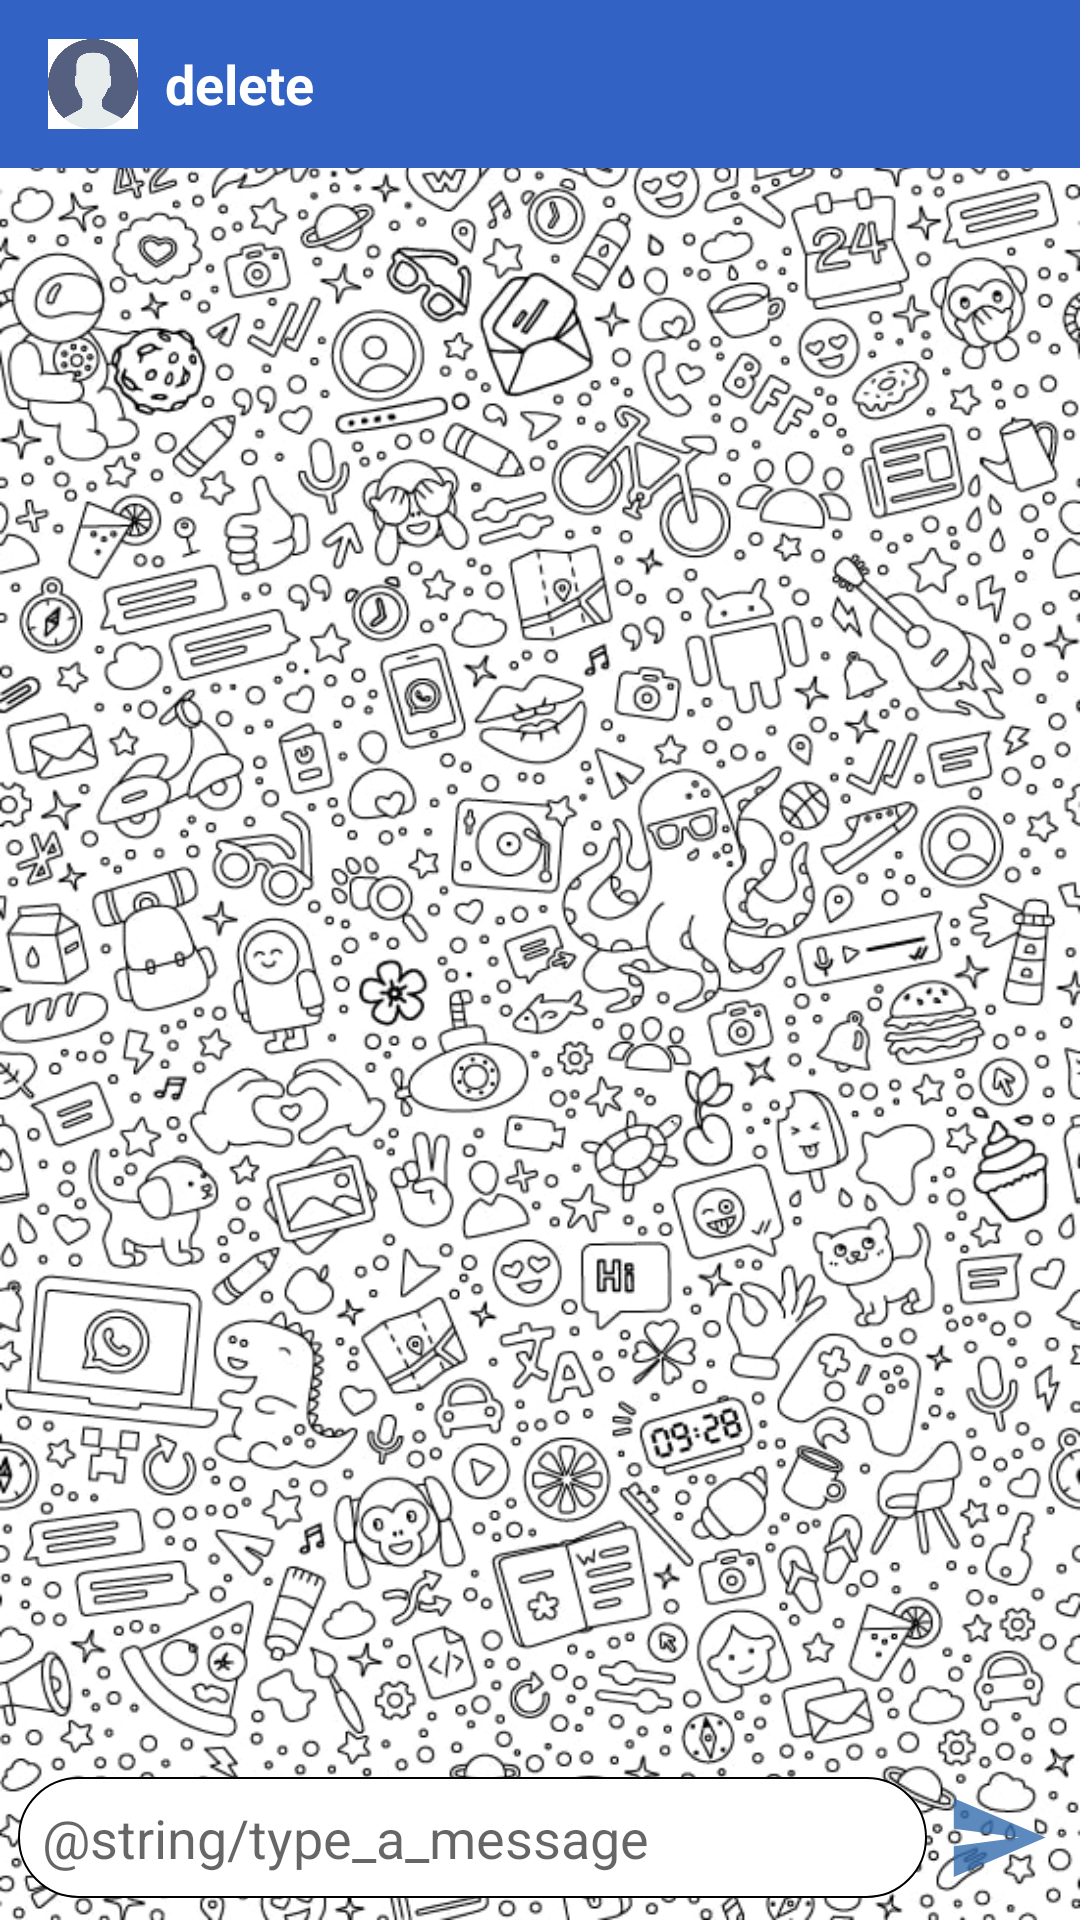

Icons on this 1080 x 1920 Android screen, each with the point to tap as [x,y]:
send: [997,1837]
user: [93,84]
